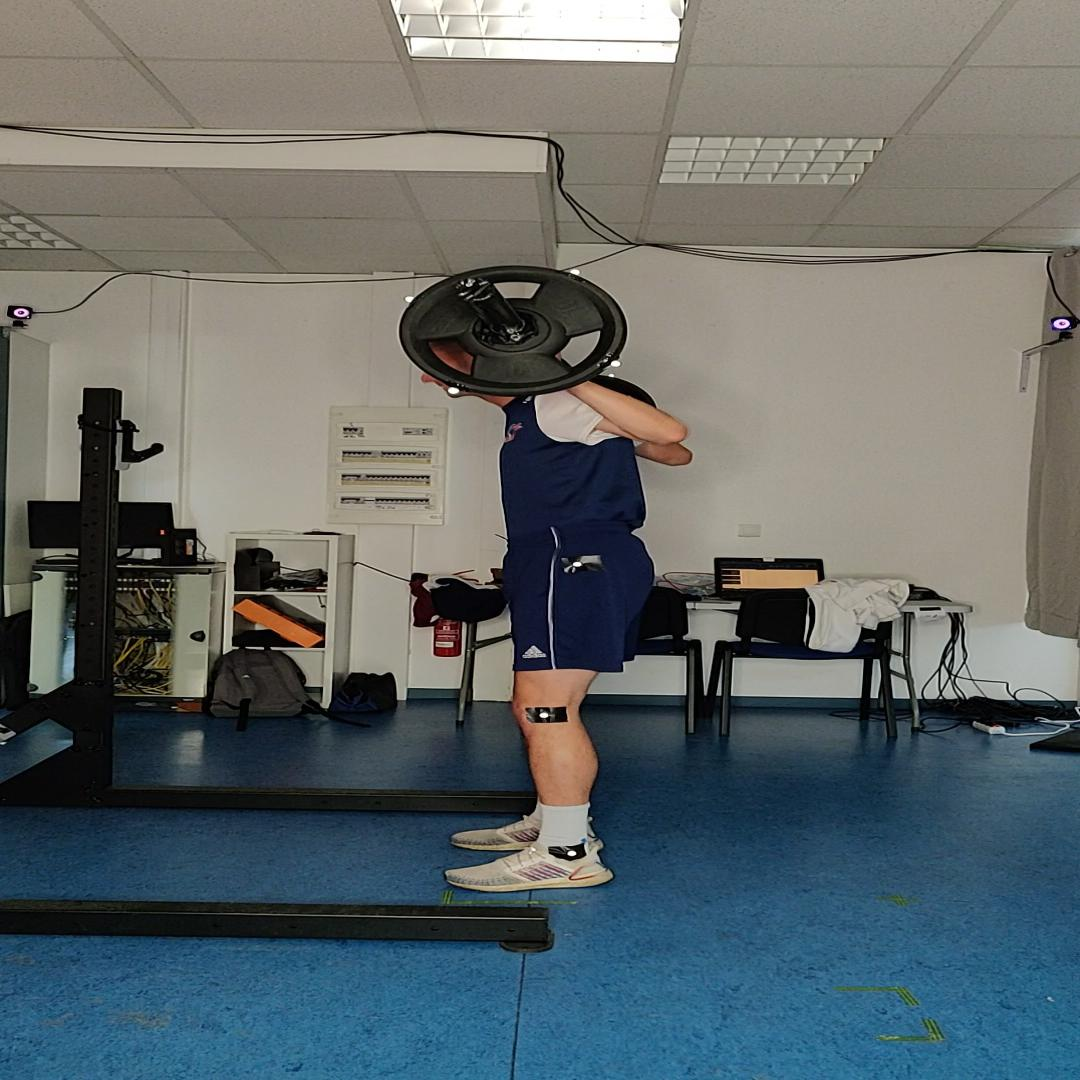Bar: (454, 277, 496, 302)
Barbell: (399, 265, 628, 397)
